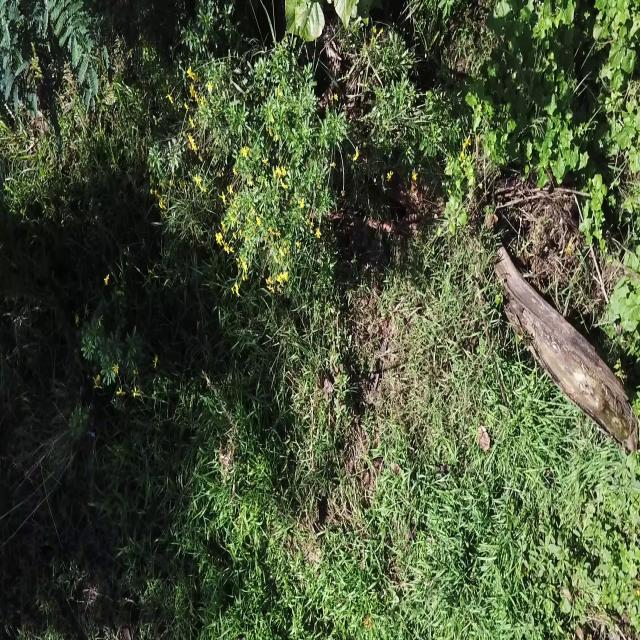Mysore-Thorn-Weed: (0, 0, 107, 129)
